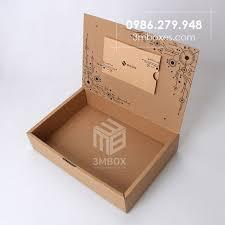box: (25, 12, 201, 215)
